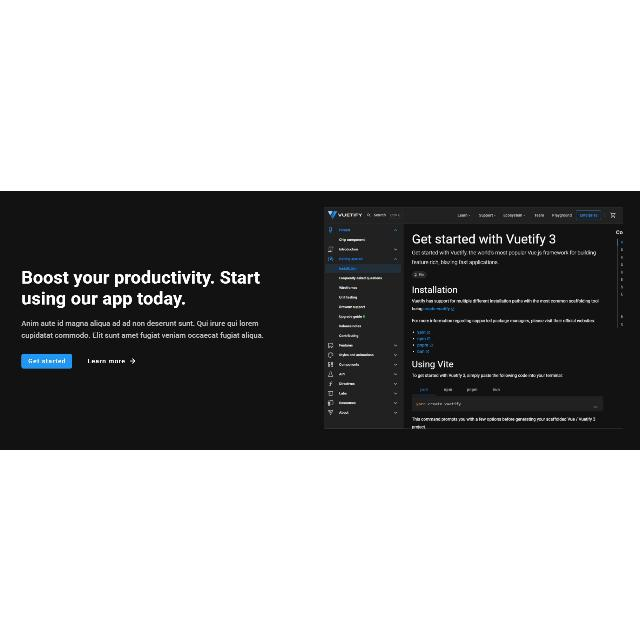QLabel: (20, 270, 262, 308), (22, 331, 266, 339), (22, 319, 264, 327), (87, 358, 125, 364)
VBtn: (21, 353, 74, 369)
VIcon: (129, 357, 135, 363)
VImg: (322, 205, 624, 431)
